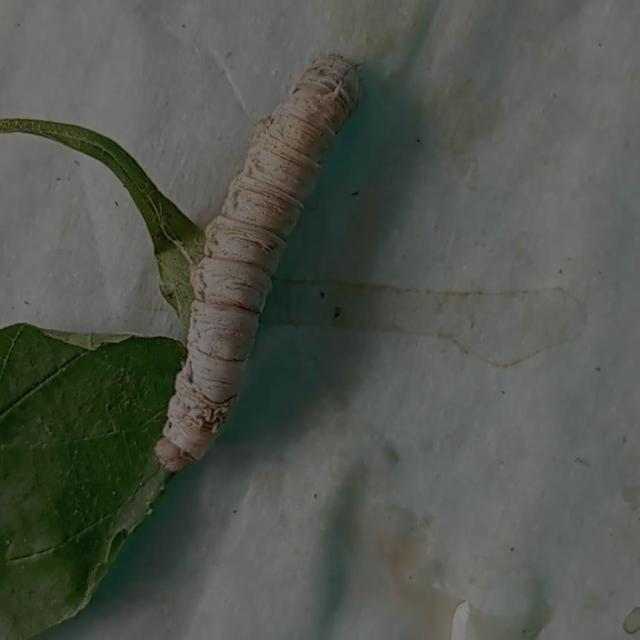Grasserie: (148, 47, 369, 479)
